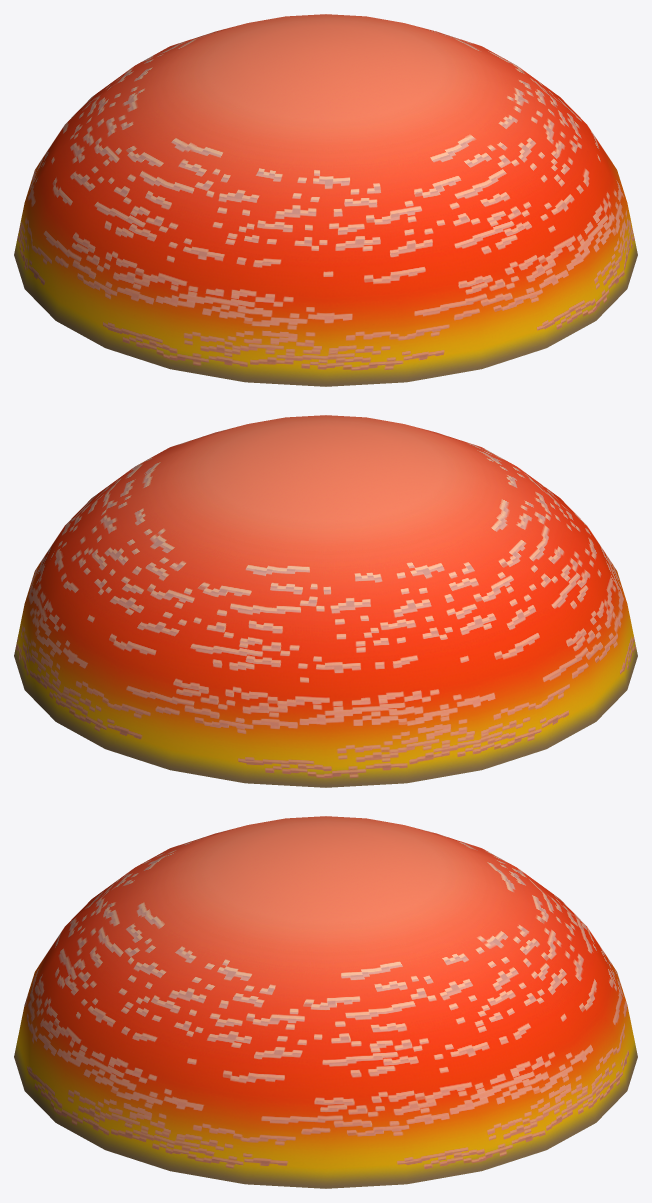
The model's file is sky_02 #874961.fbx.
3 views of the same model, one above another, from view 1: azimuth 30°, elevation 25°; view 2: azimuth 150°, elevation 25°; view 3: azimuth 270°, elevation 25° (orthographic).
Visible parts, largest first — view 1: sky_02; view 2: sky_02; view 3: sky_02.
Boxes of the visible parts, left/top/right/bottom form: sky_02: left=14, top=14, right=637, bottom=386; sky_02: left=14, top=415, right=637, bottom=787; sky_02: left=14, top=816, right=637, bottom=1188.
Bounding box in the file's own units: 2106 × 752 × 2106.
